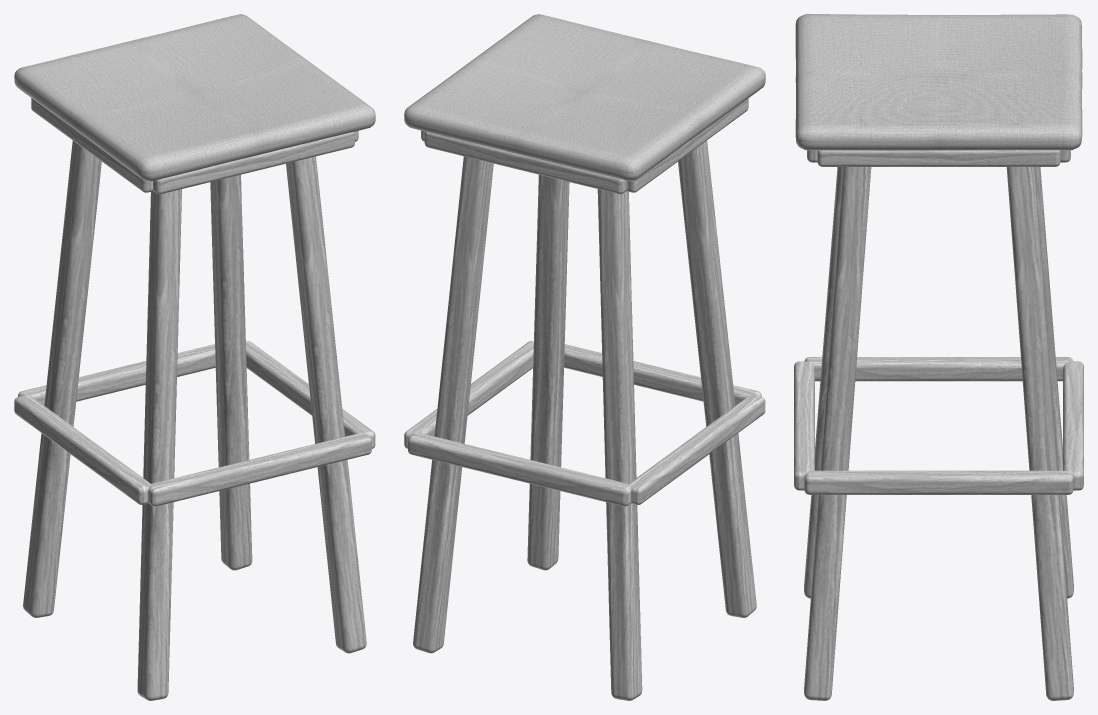
File: bar-stool.gltf
3 renders of one model, left to right at view 1: azimuth 30°, elevation 25°; view 2: azimuth 150°, elevation 25°; view 3: azimuth 270°, elevation 25°, orthographic. The views are drawn at different scales.
Visible parts, largest first — view 1: bar-stool; view 2: bar-stool; view 3: bar-stool.
Boxes of the visible parts, x1,y1,x2,y2 form: bar-stool: (14, 14, 375, 700); bar-stool: (404, 14, 765, 700); bar-stool: (794, 14, 1083, 700).
Bounding box in the file's own units: 0.334 × 0.733 × 0.334.
2 materials, 2 textured.
